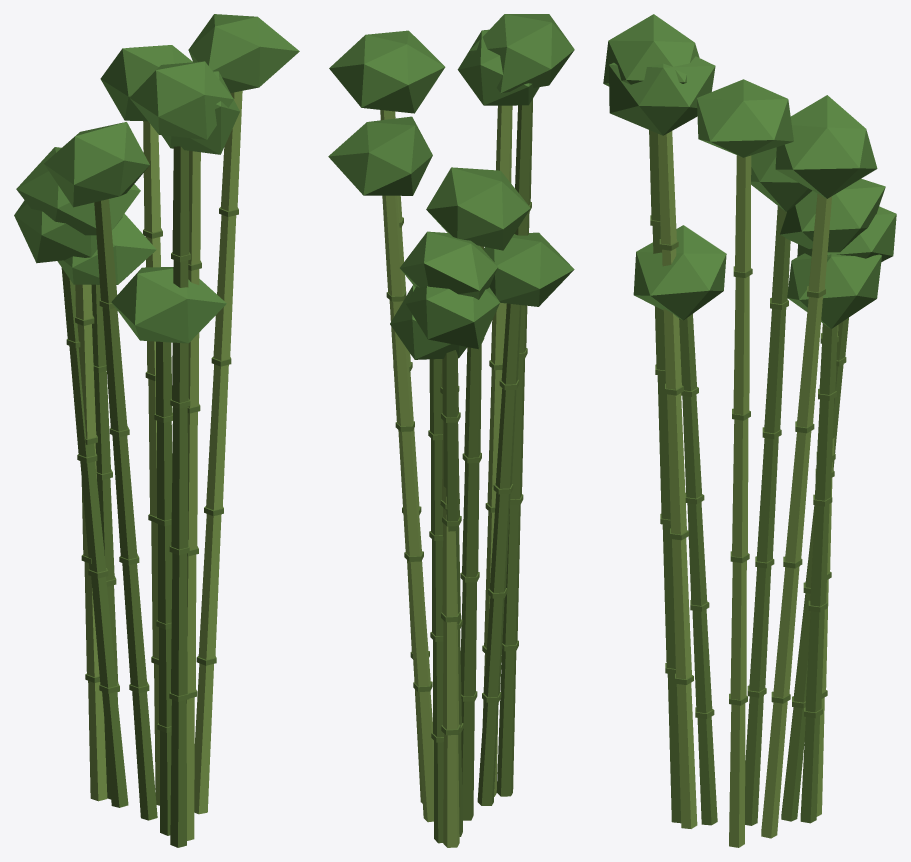
Rendered from jap-bambu.gltf.
The picture shows the model from 3 angles, left to right: view 1: azimuth 30°, elevation 25°; view 2: azimuth 150°, elevation 25°; view 3: azimuth 270°, elevation 25°; orthographic projection. The views are drawn at different scales.
Visible parts, largest first — view 1: jap-bambu; view 2: jap-bambu; view 3: jap-bambu.
Boxes of the visible parts, x1,y1,x2,y2 form: jap-bambu: (14,14,299,847); jap-bambu: (328,14,574,847); jap-bambu: (603,14,896,847).
Size of the model in its own units: 0.8525 by 3.15 by 1.06.
